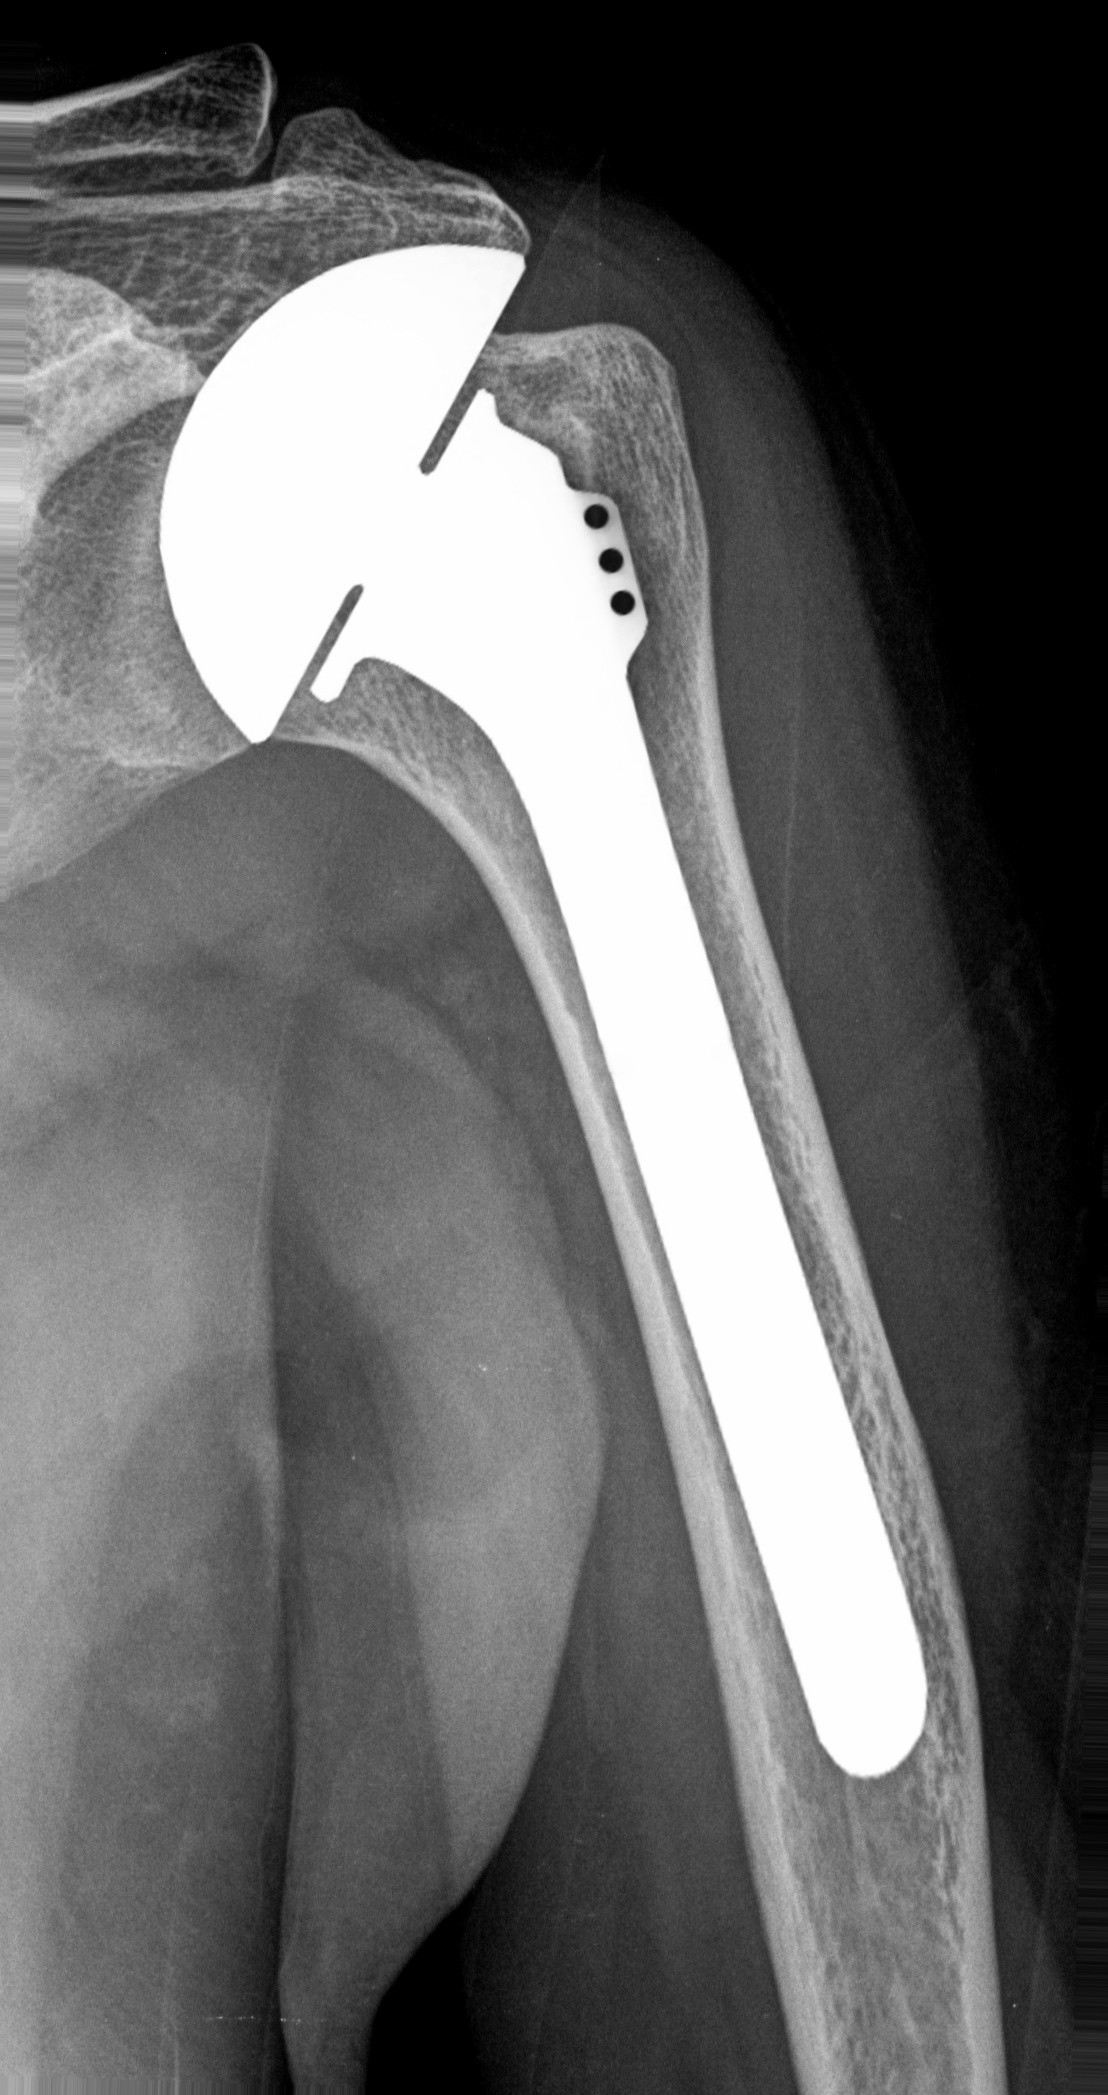Shoulder-Olympia-Wright: (122, 229, 974, 1801)
